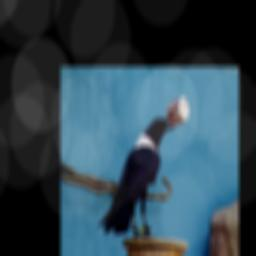Crow: (98, 116, 177, 240)
